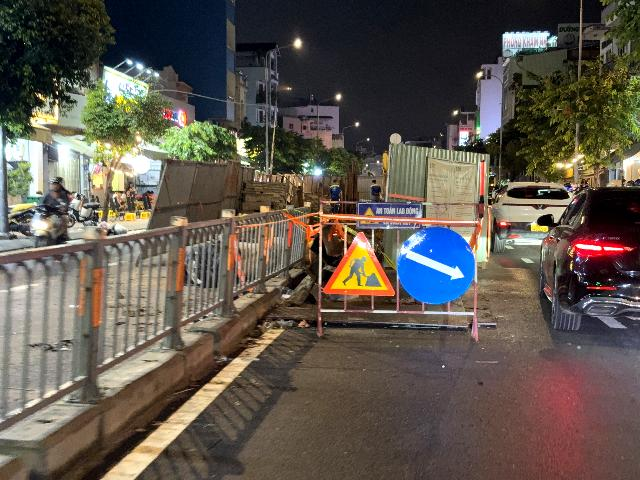cong-truong-dang-thi-cong: (323, 231, 395, 297)
huong-phai-di-vong-chuong-ngai-vat: (396, 227, 475, 305)
